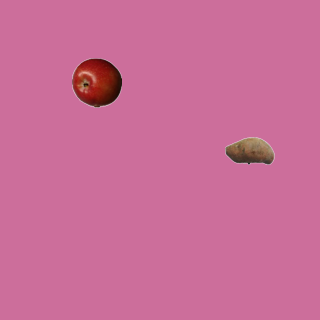Apple Braeburn: (71, 57, 121, 107)
Potato Sweet: (224, 125, 274, 175)
